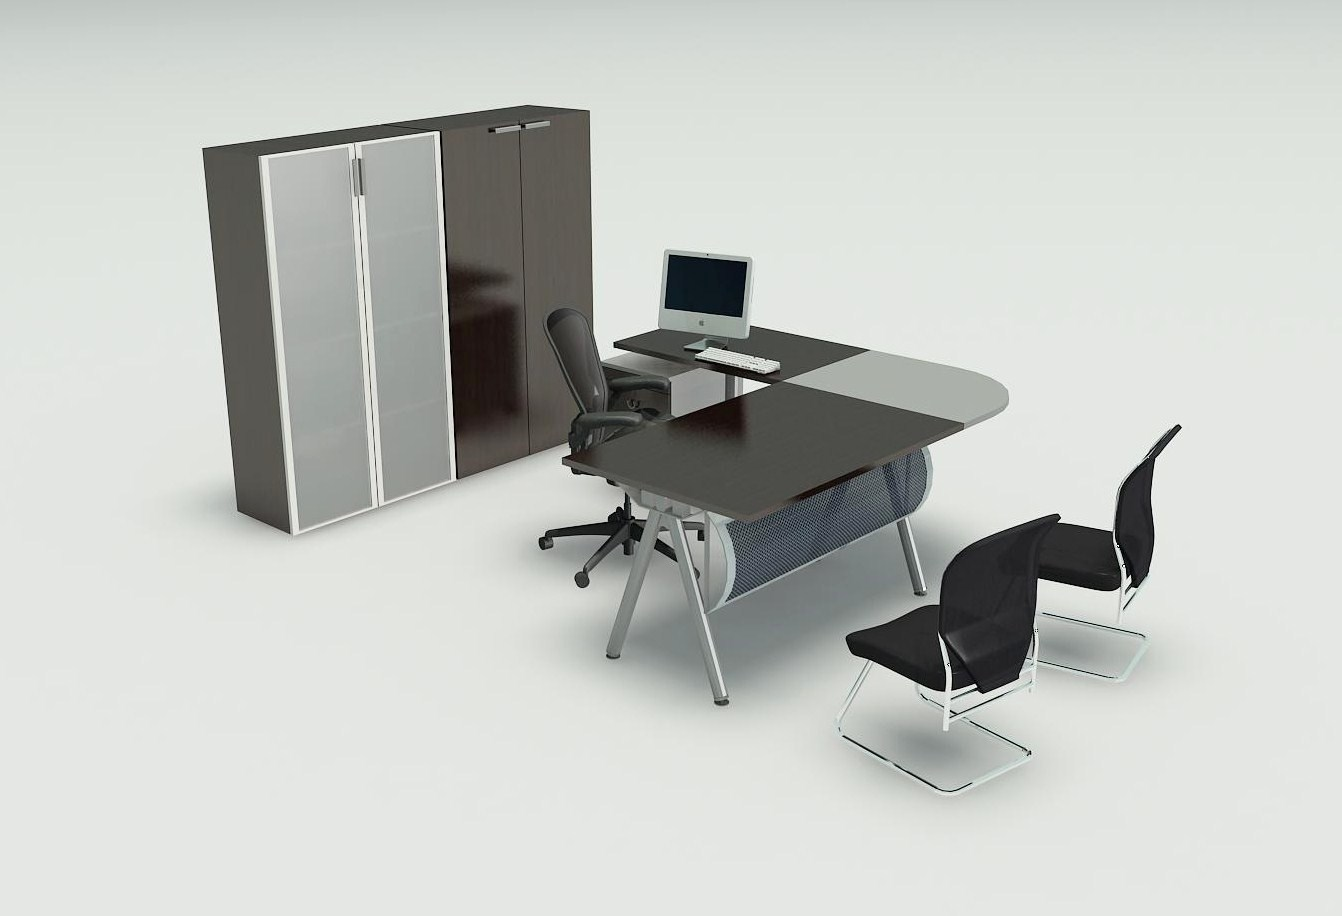chairs: (837, 503, 1063, 797), (528, 300, 714, 598), (1024, 421, 1187, 690)
